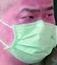with_mask: (2, 2, 57, 65)
